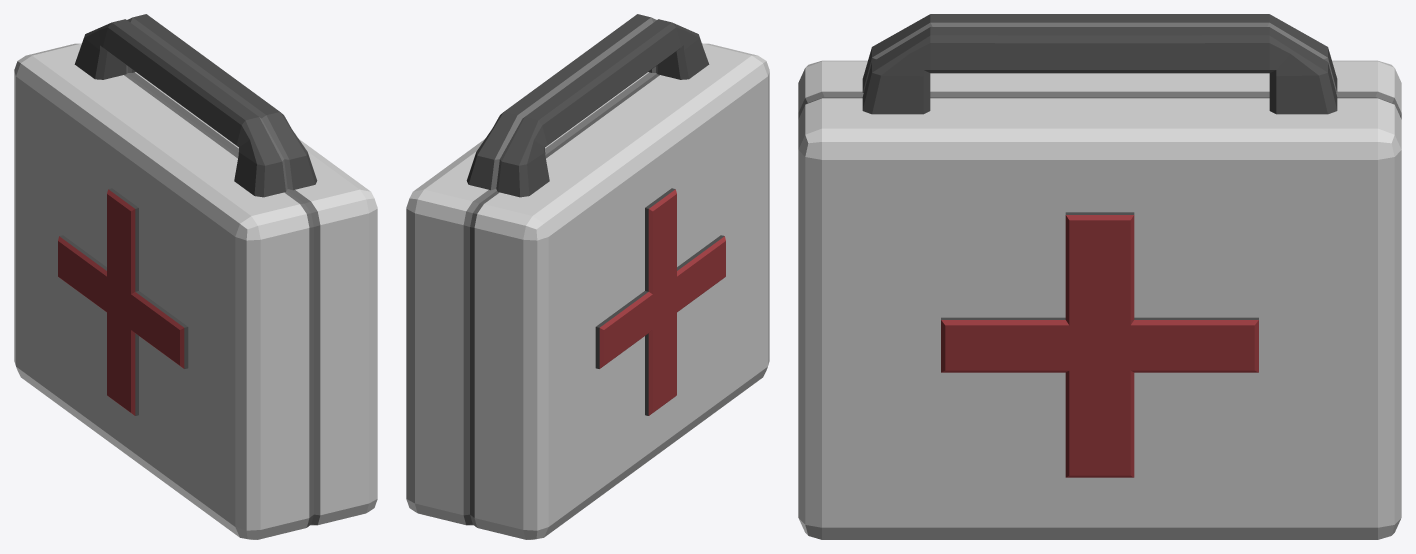
The model's file is saglık kiti.fbx.
3 renders of one model, left to right at view 1: azimuth 30°, elevation 25°; view 2: azimuth 150°, elevation 25°; view 3: azimuth 270°, elevation 25°, orthographic. The views are drawn at different scales.
Visible parts, largest first — view 1: polySurface1; view 2: polySurface1; view 3: polySurface1.
Boxes of the visible parts, x1,y1,x2,y2 form: polySurface1: (14, 14, 377, 539); polySurface1: (406, 14, 769, 539); polySurface1: (798, 14, 1401, 539).
Bounding box in the file's own units: 121 × 285 × 324.
